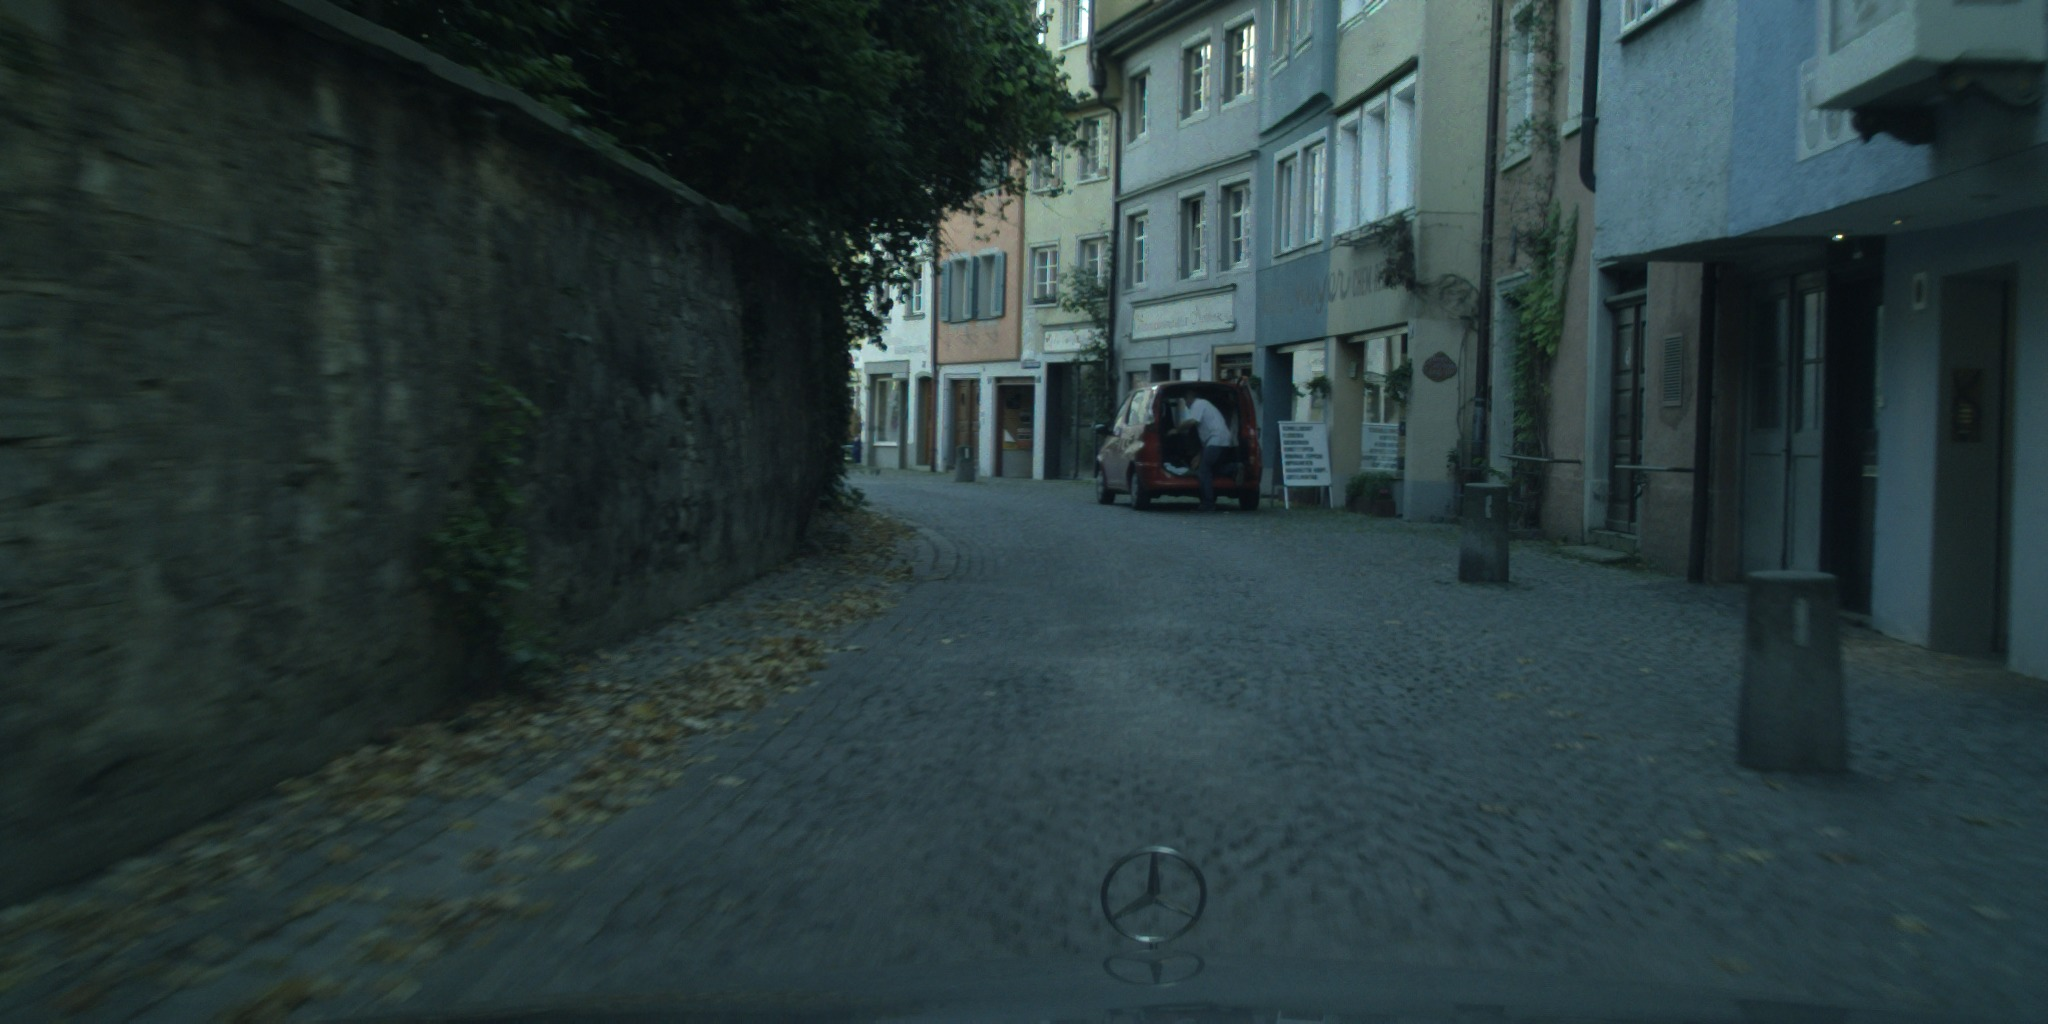car: (1093, 380, 1263, 513)
person: (1168, 388, 1245, 511)
